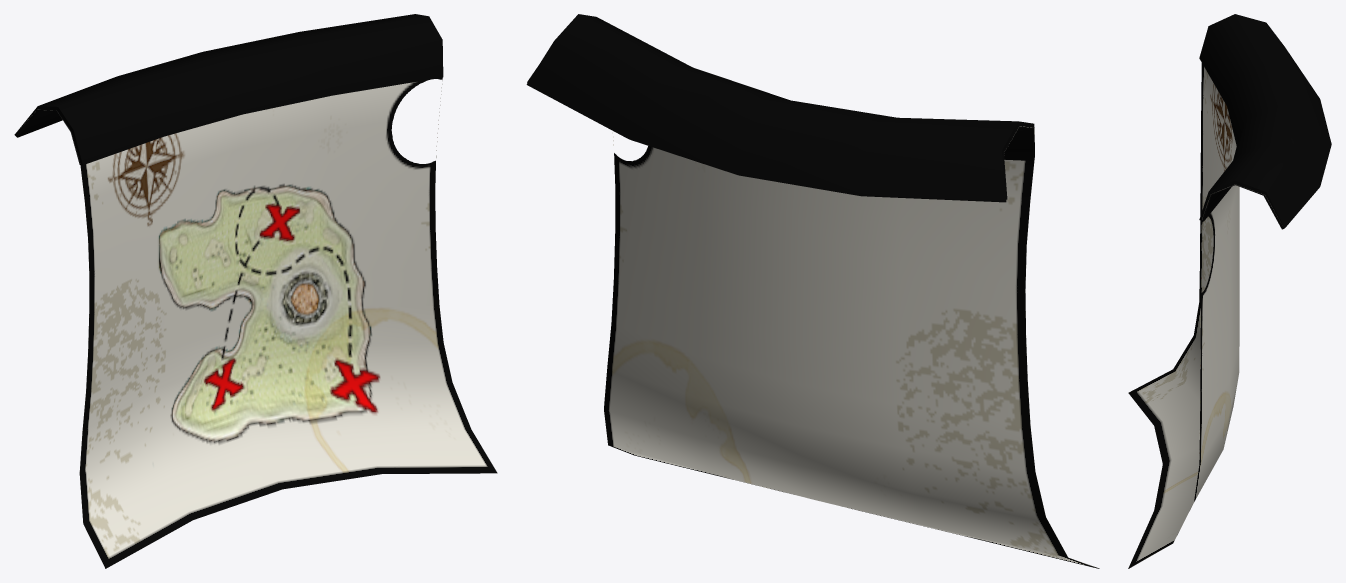
Rendered from Map.FBX.
3 views of the same model, side by side, from view 1: azimuth 30°, elevation 25°; view 2: azimuth 150°, elevation 25°; view 3: azimuth 270°, elevation 25° (orthographic). The views are drawn at different scales.
Visible parts, largest first — view 1: Map; view 2: Map; view 3: Map.
Part boxes in pixels (box(x1,y1,x2,y2)): Map: box(14, 14, 497, 568); Map: box(526, 14, 1099, 568); Map: box(1128, 14, 1331, 568).
Size of the model in its own units: 9.47 by 9.31 by 4.48.
